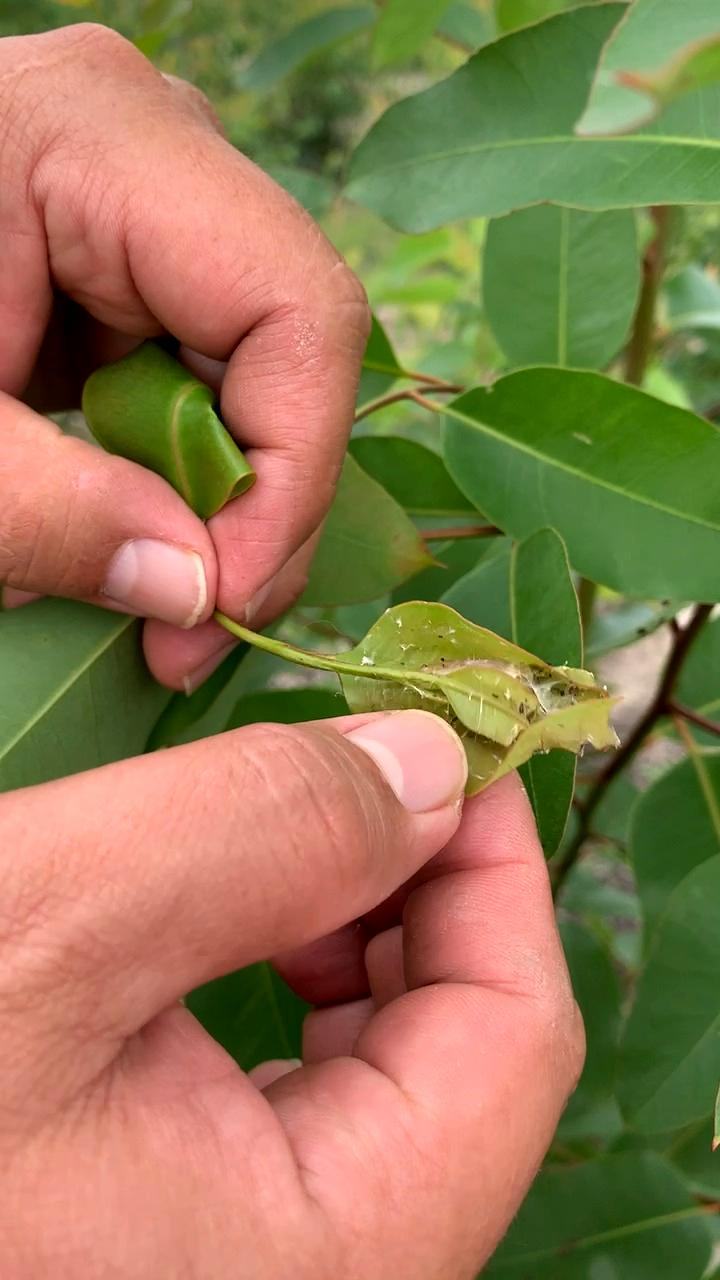Leaf Roller - Leaf: (330, 590, 643, 819)
